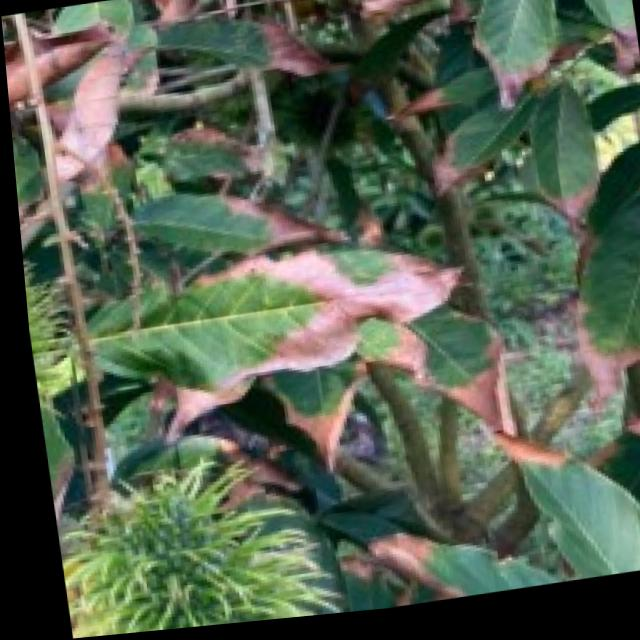Leaf Blight: (213, 160, 448, 444), (441, 263, 640, 516), (0, 0, 224, 202), (379, 0, 640, 143)
